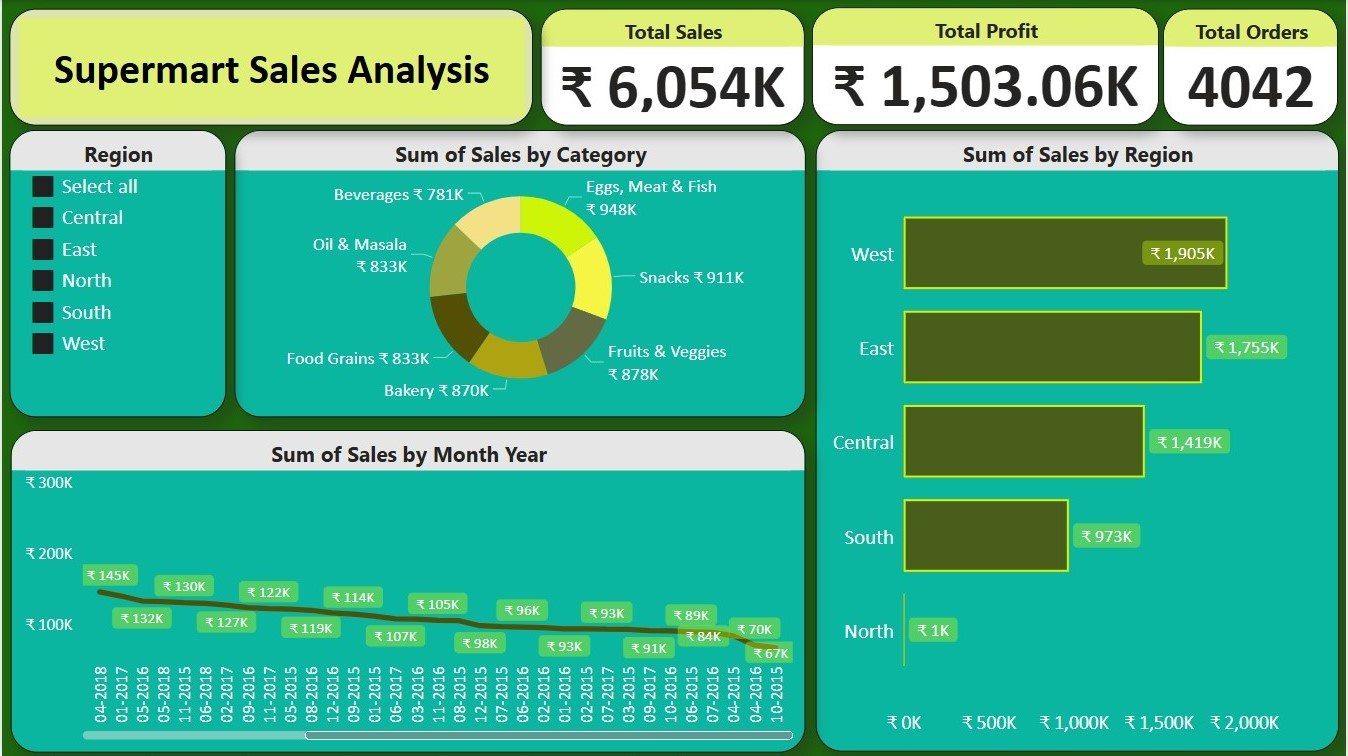

What the dashboard file says about the page in this screenshot:
{"tool":"powerbi","page":{"name":"Page 6","canvas":[1280,720],"ordinal":5},"visuals":[{"type":"barChart","title":"Sum of Sales by Region","fields":{"Category":["Supermart_Grocery.region"],"Y":["Sum(Supermart_Grocery.sales)"]},"box":[774.5,124.3,498.3,592.4],"z":0},{"type":"donutChart","title":"Sum of Sales by Category","fields":{"Category":["Supermart_Grocery.category"],"Y":["Sum(Supermart_Grocery.sales)"]},"box":[314.9,124.3,451.2,314.9],"z":1000},{"type":"card","title":"Total Sales","fields":{"Values":["Sum(Supermart_Grocery.sales)"]},"box":[512.7,8.2,250.9,111],"z":2000},{"type":"card","title":"Total Profit","fields":{"Values":["Sum(Supermart_Grocery.profit)"]},"box":[770.9,7,330.6,112.2],"z":3000},{"type":"card","title":"Total Orders","fields":{"Values":["Supermart_Grocery.Total_Orders"]},"box":[1106.3,8.2,166.5,111],"z":4000},{"type":"shape","box":[7.2,8.4,498.3,111],"z":4001},{"type":"slicer","title":"fddf","fields":{"Values":["Supermart_Grocery.region"]},"box":[0,91.7,206.3,206.3],"z":4002},{"type":"slicer","title":"fddf","fields":{"Values":["Supermart_Grocery.category"]},"box":[1.2,333,206.3,290.8],"z":4003},{"type":"slicer","fields":{"Values":["Supermart_Grocery.city"]},"box":[536.9,56.7,292,596],"z":4004}]}

Visuals, with their boxes in screenshot pixels (x1, y1, x2, y2), scaled from the page's 1280x720 canvas onto the 1348x756 screenshot:
"Sum of Sales by Region" barChart: (x1=816, y1=131, x2=1340, y2=753)
"Sum of Sales by Category" donutChart: (x1=332, y1=131, x2=807, y2=461)
"Total Sales" card: (x1=540, y1=9, x2=804, y2=125)
"Total Profit" card: (x1=812, y1=7, x2=1160, y2=125)
"Total Orders" card: (x1=1165, y1=9, x2=1340, y2=125)
shape: (x1=8, y1=9, x2=532, y2=125)
"fddf" slicer: (x1=0, y1=96, x2=217, y2=313)
"fddf" slicer: (x1=1, y1=350, x2=219, y2=655)
slicer - Supermart_Grocery.city: (x1=565, y1=60, x2=873, y2=685)
